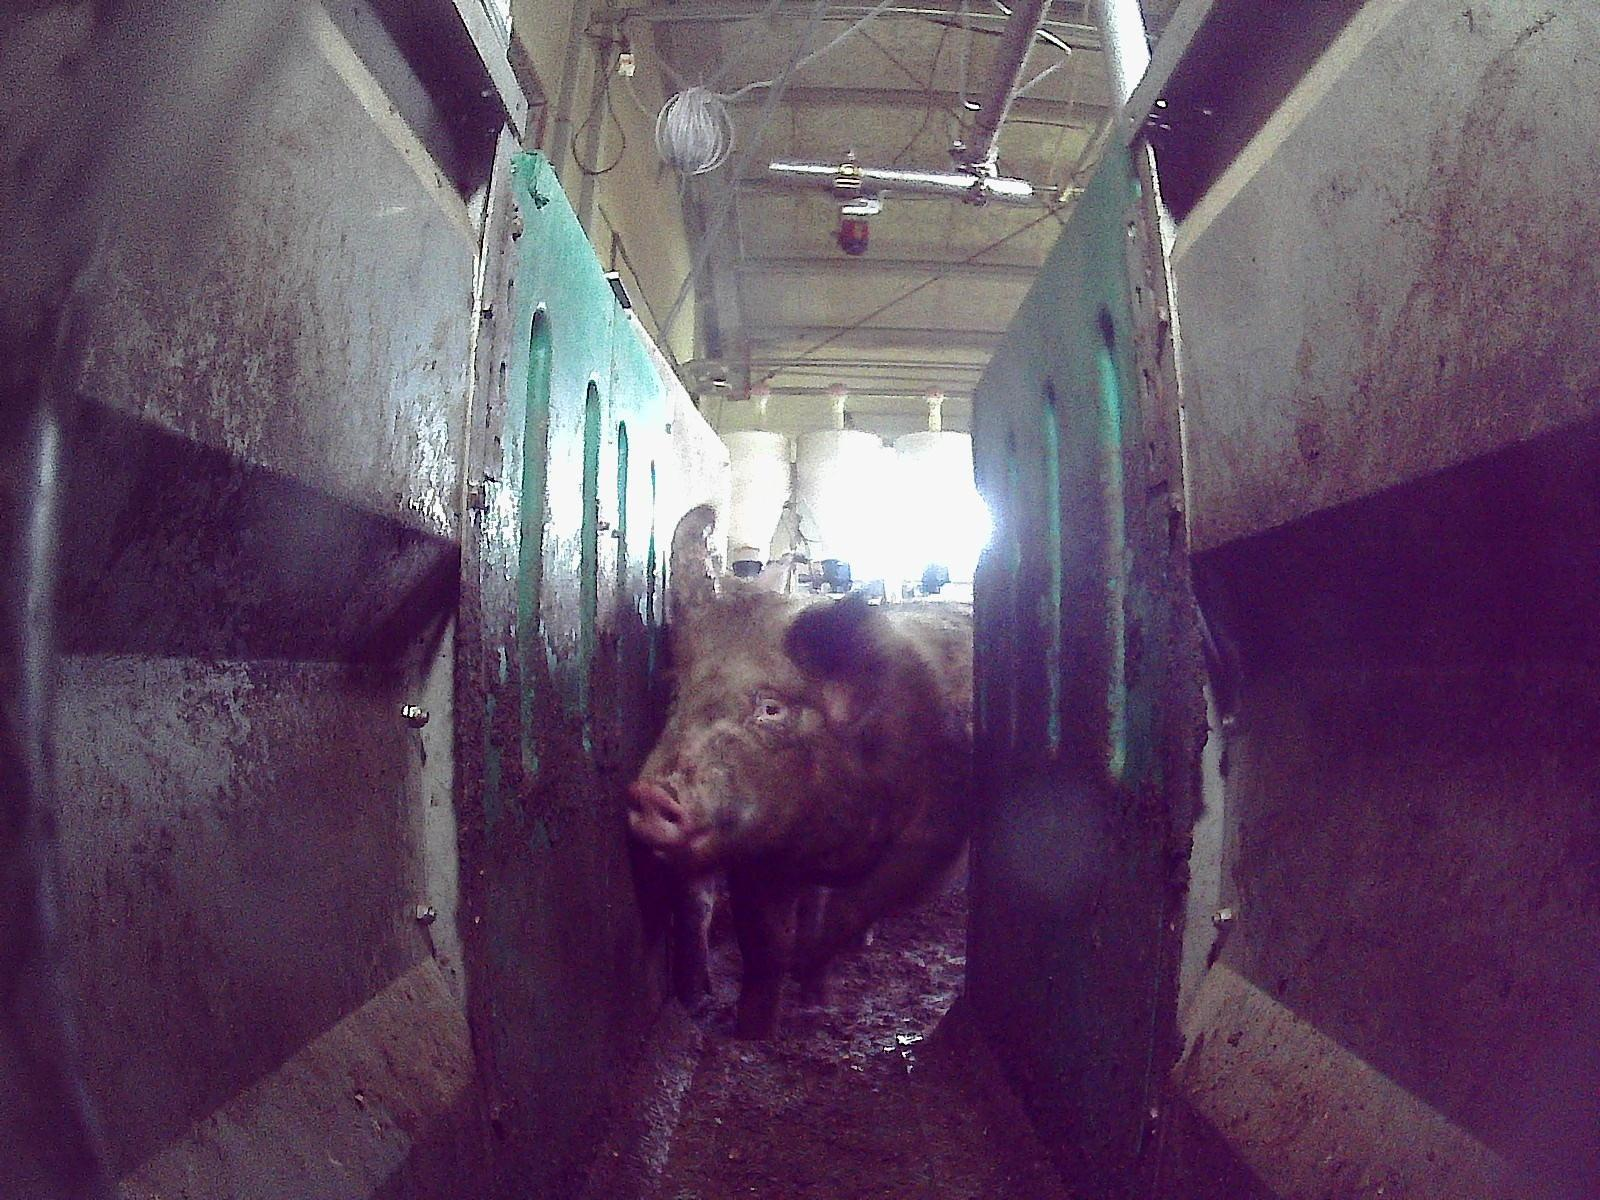Face: (625, 583, 843, 871)
